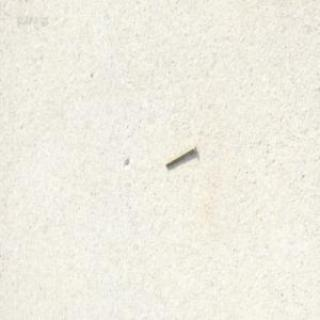Bolttrack_idkeyframe: (163, 141, 196, 167)
